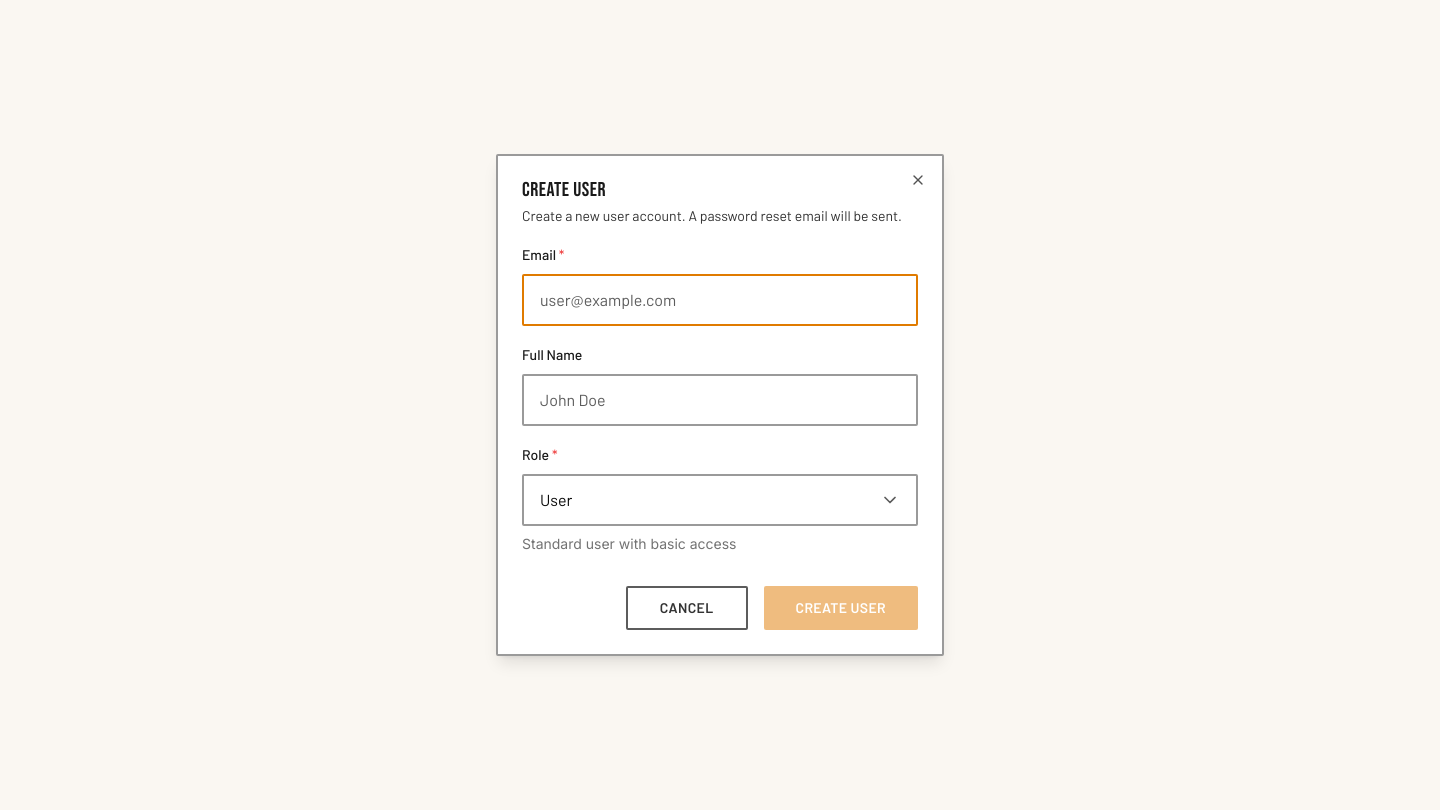
Test: UserFormModal › Validation › enables submit button when form is valid
In the field with test id "email-input": (720, 300) 522,274 -> 918,326, type "valid@example.com"
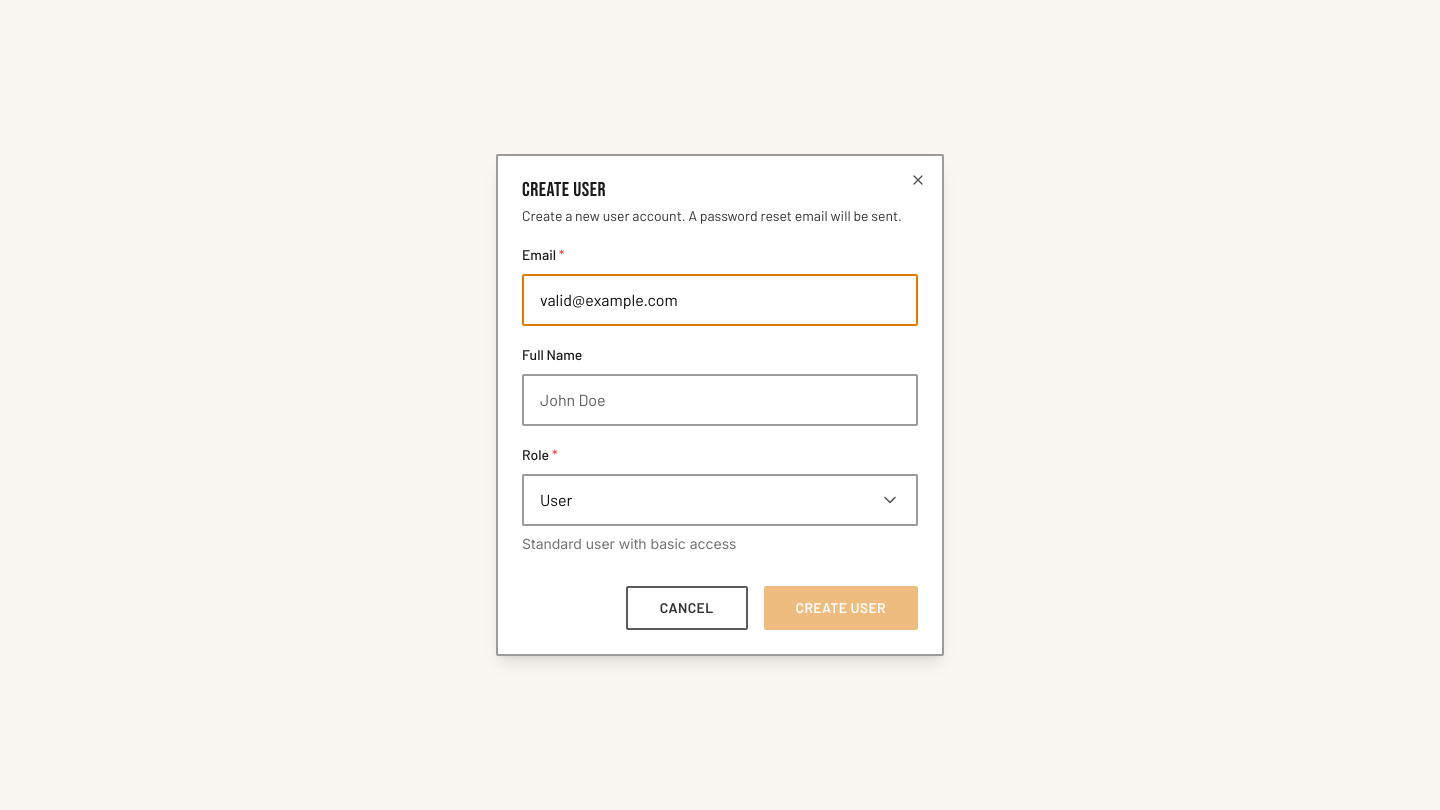
Press Tab
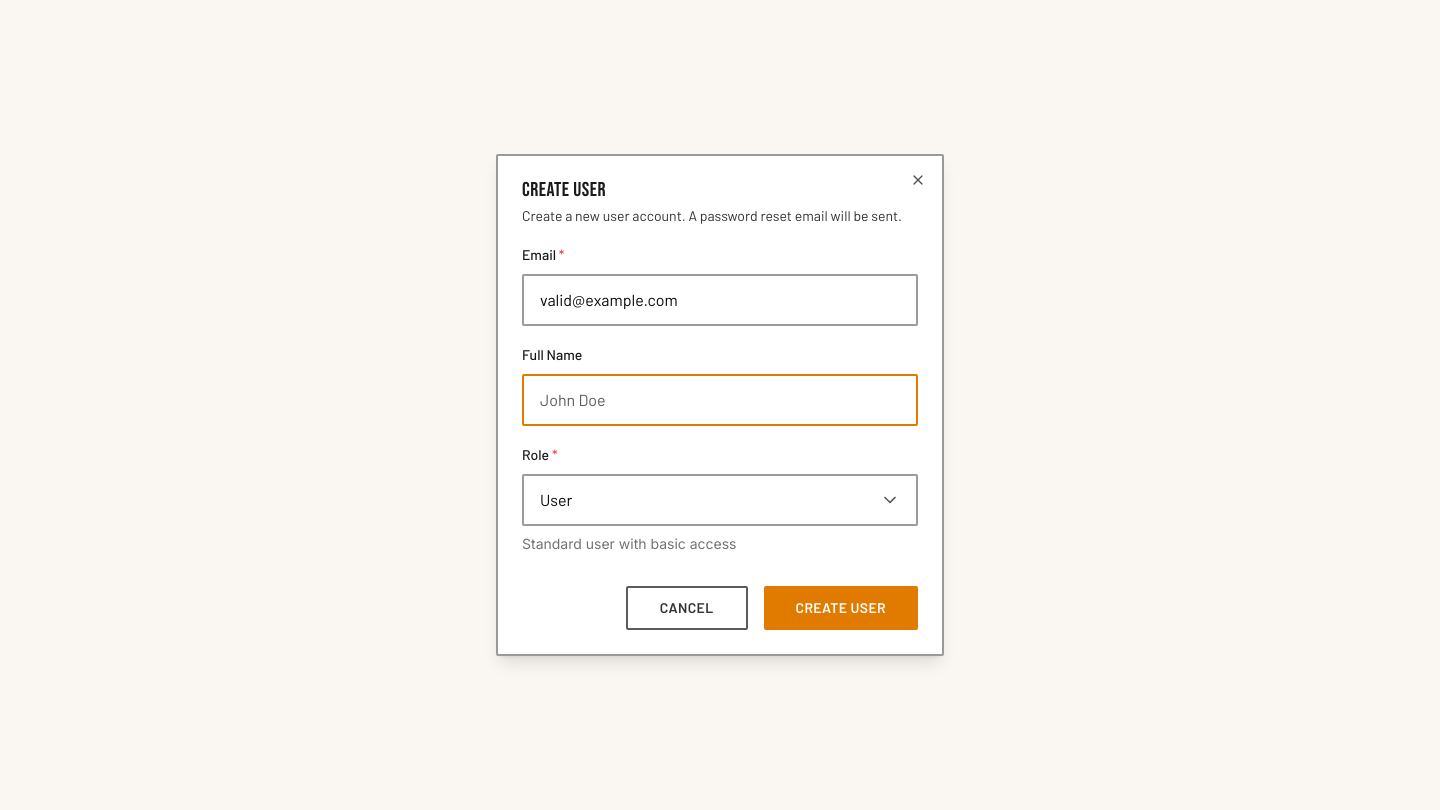
Result: the button with test id "submit-button" is enabled at 764,586 -> 918,630
